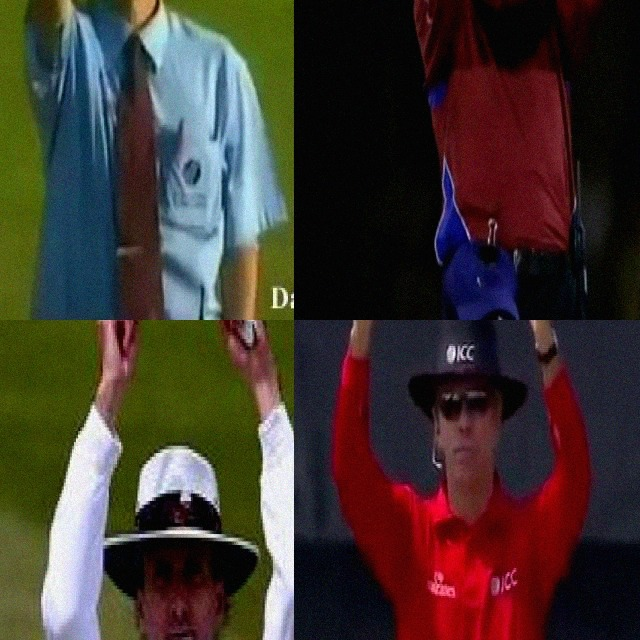Out: (18, 0, 280, 320)
Six: (26, 320, 294, 640), (328, 320, 590, 640), (406, 0, 611, 320)
